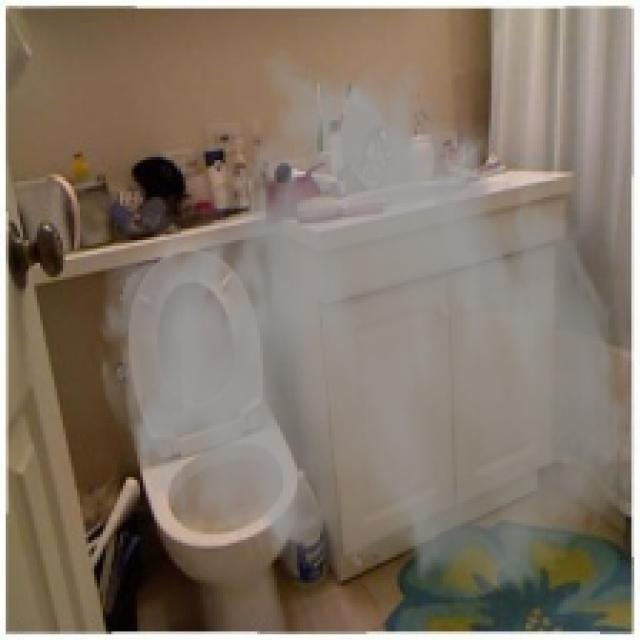Smoke: (94, 45, 637, 606)
